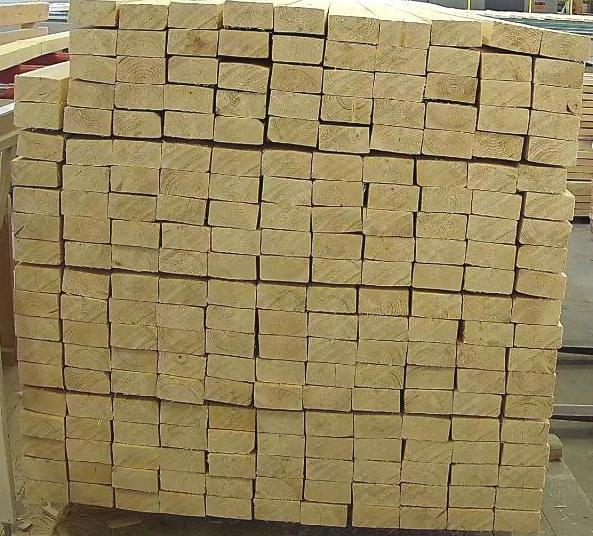Wood-Plank: (484, 18, 543, 54), (521, 218, 574, 248), (542, 30, 591, 62), (11, 157, 61, 188), (518, 269, 568, 300), (523, 191, 576, 220), (158, 194, 206, 226), (275, 4, 326, 34), (429, 46, 480, 76), (426, 73, 478, 102), (326, 40, 376, 70), (270, 90, 320, 120), (268, 116, 318, 146), (64, 106, 112, 137), (372, 126, 424, 154), (526, 138, 578, 166), (474, 131, 524, 160), (518, 245, 568, 274), (12, 75, 62, 104), (120, 0, 168, 30), (220, 62, 268, 92), (162, 142, 210, 172), (474, 190, 522, 220), (329, 16, 380, 44), (380, 20, 431, 48), (273, 36, 324, 64), (324, 70, 375, 98), (13, 102, 64, 130), (468, 216, 519, 244), (18, 131, 64, 162), (217, 90, 266, 119), (535, 84, 582, 114), (64, 268, 108, 300), (170, 1, 222, 28), (220, 30, 270, 58), (272, 64, 322, 92), (376, 74, 426, 102), (530, 112, 580, 140), (480, 106, 530, 134), (322, 96, 372, 124), (424, 130, 474, 158), (370, 184, 420, 212), (512, 298, 562, 326), (264, 149, 312, 178), (70, 54, 116, 84), (169, 56, 218, 84), (375, 100, 424, 128), (165, 112, 214, 140), (519, 166, 568, 194), (210, 202, 259, 230), (111, 273, 158, 302), (465, 321, 515, 348), (536, 60, 584, 88), (378, 46, 426, 74), (428, 104, 476, 132), (164, 84, 212, 112), (115, 82, 163, 110), (113, 140, 161, 168), (212, 148, 260, 176), (314, 152, 362, 180), (470, 164, 518, 192), (210, 174, 258, 202), (262, 204, 310, 232), (468, 242, 516, 270), (212, 228, 260, 256), (162, 224, 210, 252), (12, 214, 60, 242), (14, 238, 62, 266), (205, 378, 253, 406), (160, 278, 206, 307), (482, 54, 533, 80), (114, 110, 161, 138), (264, 178, 311, 206), (161, 170, 208, 198), (414, 292, 461, 320), (207, 306, 254, 334), (207, 330, 254, 358), (19, 412, 64, 441), (158, 375, 203, 404), (68, 0, 118, 26), (433, 20, 483, 46), (168, 30, 218, 56), (482, 80, 532, 106), (214, 118, 264, 144), (364, 158, 414, 184), (422, 188, 472, 214), (418, 214, 468, 240), (464, 268, 514, 294), (360, 290, 410, 316), (256, 359, 304, 386), (70, 28, 116, 56), (66, 138, 112, 166), (13, 188, 59, 216), (61, 190, 107, 218), (61, 296, 107, 324), (65, 242, 111, 270), (209, 280, 255, 308), (157, 304, 203, 332), (158, 328, 204, 356), (320, 126, 369, 152), (418, 160, 467, 186), (365, 210, 414, 236), (414, 266, 463, 292), (463, 296, 512, 322), (309, 340, 358, 366), (309, 313, 356, 340), (68, 80, 113, 108), (109, 194, 154, 222), (313, 207, 363, 232), (118, 30, 166, 56), (314, 234, 362, 260), (262, 230, 310, 256), (364, 260, 412, 286), (258, 286, 306, 312), (258, 312, 306, 338), (356, 364, 404, 390), (64, 216, 108, 244), (16, 266, 60, 294), (23, 388, 64, 418), (225, 2, 272, 28), (117, 58, 164, 84), (111, 168, 158, 194), (209, 254, 256, 280), (308, 288, 355, 314), (459, 346, 506, 372), (259, 336, 306, 362), (208, 454, 255, 480), (255, 384, 302, 410), (410, 320, 460, 344), (402, 461, 450, 486), (112, 222, 158, 248), (62, 322, 108, 348), (112, 246, 158, 272), (160, 250, 206, 276), (158, 354, 204, 380), (161, 402, 207, 428), (208, 356, 254, 382), (417, 240, 466, 264), (313, 260, 362, 284), (360, 318, 409, 342), (504, 421, 551, 446), (63, 166, 108, 192), (14, 316, 59, 342), (64, 346, 109, 372), (110, 300, 155, 326), (111, 324, 156, 350), (314, 182, 362, 206), (366, 238, 414, 262), (260, 258, 308, 282), (510, 350, 558, 374), (408, 344, 456, 368), (454, 394, 502, 418), (405, 392, 453, 416), (304, 388, 352, 412), (517, 325, 563, 350), (14, 292, 58, 318), (17, 340, 61, 366), (114, 398, 158, 424), (206, 498, 253, 522), (359, 342, 406, 366), (208, 432, 255, 456), (458, 370, 505, 394), (257, 412, 304, 436), (306, 414, 353, 438), (18, 363, 63, 388), (66, 441, 111, 466), (159, 494, 205, 518), (302, 504, 348, 528), (256, 478, 302, 502), (160, 426, 206, 450), (307, 364, 355, 387), (258, 434, 304, 458), (258, 456, 304, 480), (355, 416, 401, 440), (404, 418, 450, 442), (454, 418, 500, 442), (353, 391, 400, 414), (21, 460, 66, 484), (255, 500, 300, 524), (112, 470, 157, 494), (66, 396, 111, 420), (64, 370, 109, 394), (111, 350, 156, 374), (111, 372, 156, 396), (113, 424, 158, 448), (113, 446, 158, 470), (209, 408, 254, 432), (407, 368, 456, 390), (24, 482, 68, 506), (69, 484, 113, 508), (160, 472, 204, 496), (66, 418, 110, 442), (160, 450, 204, 474), (506, 398, 554, 420), (502, 446, 550, 468), (355, 440, 403, 462), (206, 477, 251, 500), (355, 461, 400, 484), (497, 490, 544, 512), (450, 488, 497, 510), (509, 374, 556, 396), (306, 438, 353, 460), (115, 490, 158, 514), (68, 462, 111, 486), (449, 510, 495, 532), (402, 486, 448, 508), (453, 466, 499, 488), (406, 442, 452, 464), (354, 508, 399, 530), (496, 512, 541, 534), (354, 486, 399, 508), (306, 482, 351, 504), (501, 468, 546, 490), (307, 460, 352, 482), (23, 438, 64, 462), (454, 443, 500, 464), (401, 510, 447, 530)
